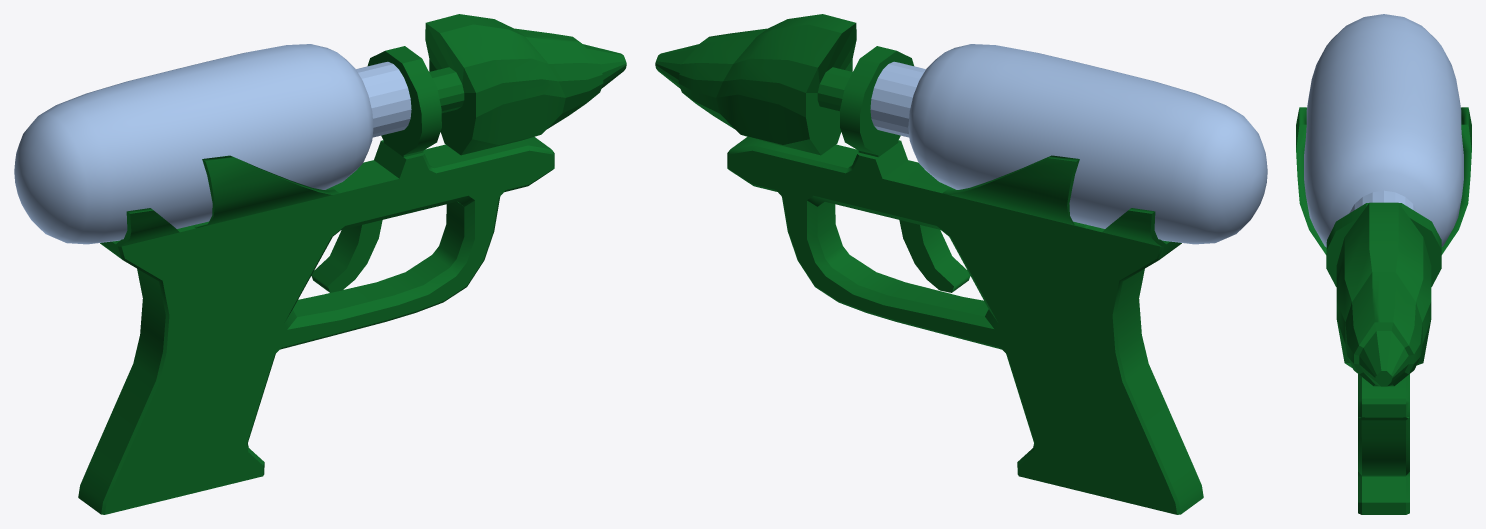
Rendered from Water gun.fbx.
3 views of the same model, side by side, from view 1: azimuth 30°, elevation 25°; view 2: azimuth 150°, elevation 25°; view 3: azimuth 270°, elevation 25° (orthographic).
Visible parts, largest first — view 1: pCube1, pSphere1; view 2: pCube1, pSphere1; view 3: pSphere1, pCube1.
Part boxes in pixels (x1,y1,x2,y2): pCube1: (78, 14, 626, 514); pSphere1: (14, 44, 411, 244); pCube1: (655, 14, 1203, 514); pSphere1: (870, 44, 1267, 244); pSphere1: (1304, 14, 1463, 247); pCube1: (1296, 107, 1471, 514).
Bounding box in the file's own units: 21.01 × 13.65 × 5.25.
